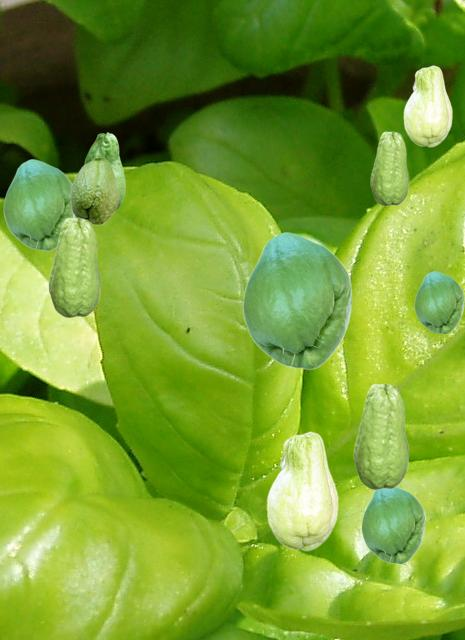sayote: (242, 232, 351, 369), (266, 431, 337, 550), (3, 159, 73, 250), (353, 383, 408, 489), (48, 217, 100, 317), (361, 487, 424, 563), (403, 65, 451, 146), (70, 156, 118, 224), (83, 132, 124, 210), (414, 271, 463, 333), (370, 131, 408, 205)
